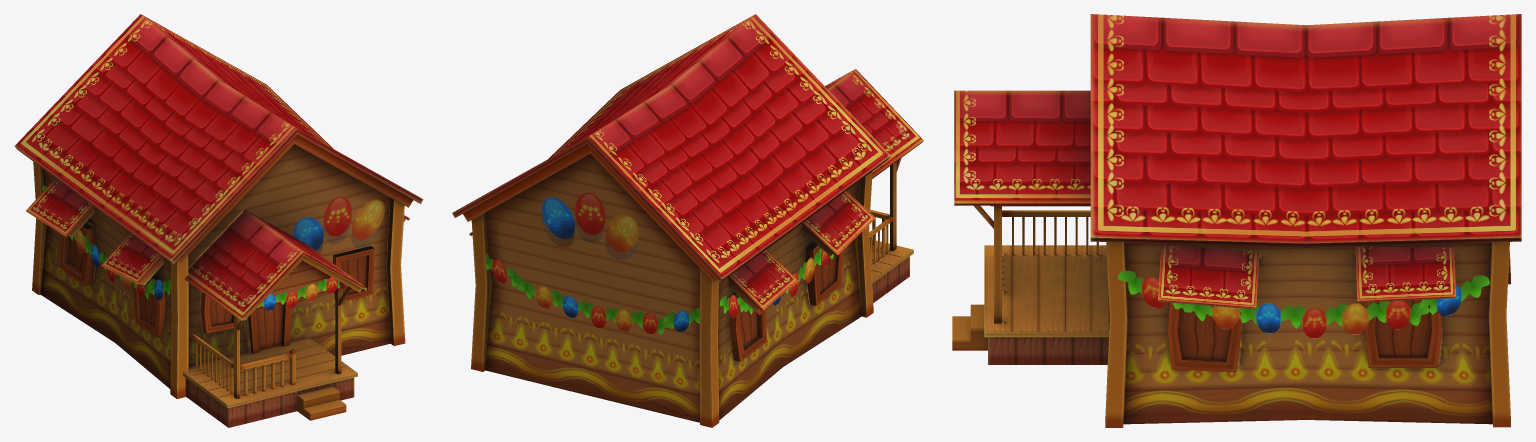
File: House_08_F.FBX
3 renders of one model, left to right at view 1: azimuth 30°, elevation 25°; view 2: azimuth 150°, elevation 25°; view 3: azimuth 270°, elevation 25°, orthographic. The views are drawn at different scales.
Parts seen in each view (by area): view 1: House_08_F, Plane766; view 2: House_08_F, Plane766; view 3: House_08_F, Plane766.
Boxes of the visible parts, box(x1,y1,x2,y2) form: House_08_F: box(14, 14, 423, 427); Plane766: box(42, 185, 170, 300); House_08_F: box(452, 14, 923, 427); Plane766: box(486, 248, 833, 334); House_08_F: box(952, 14, 1521, 427); Plane766: box(1118, 270, 1489, 338).
Size of the model in its own units: 1.76 by 1.49 by 2.28.
